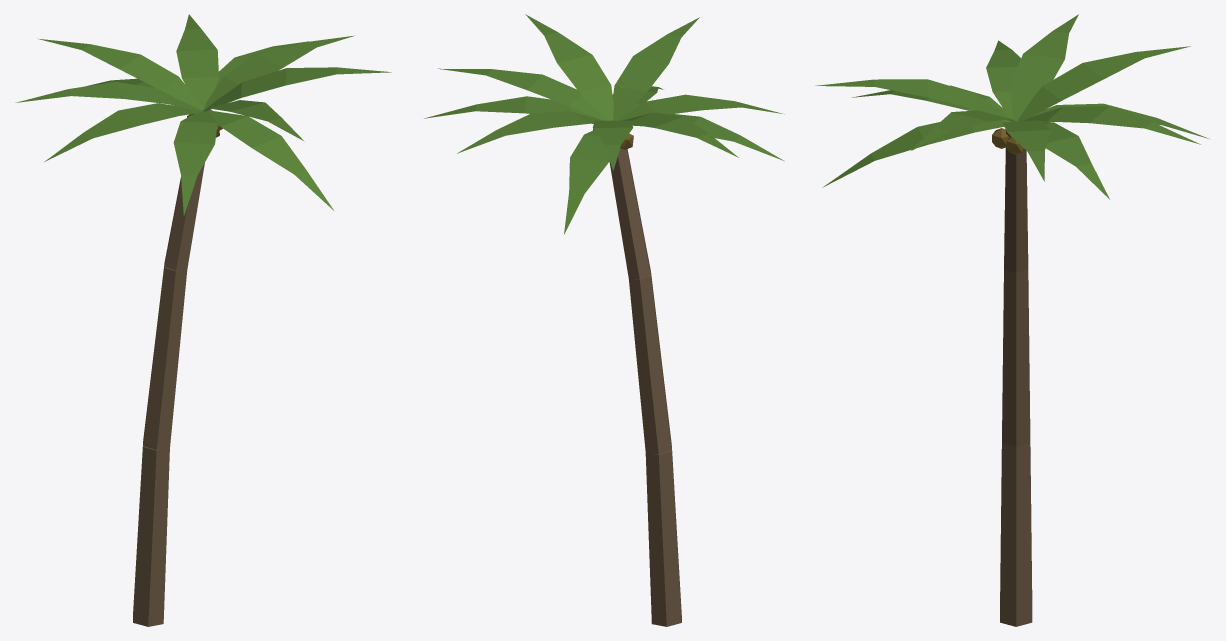
Rendered from PalmCoconut.fbx.
3 renders of one model, left to right at view 1: azimuth 30°, elevation 25°; view 2: azimuth 150°, elevation 25°; view 3: azimuth 270°, elevation 25°, orthographic. The views are drawn at different scales.
Visible parts, largest first — view 1: PalmCoconut; view 2: PalmCoconut; view 3: PalmCoconut.
Boxes of the visible parts, x1,y1,x2,y2 form: PalmCoconut: [15, 14, 391, 626]; PalmCoconut: [424, 14, 784, 626]; PalmCoconut: [815, 14, 1208, 626].
Size of the model in its own units: 2830 by 4344 by 2752.
